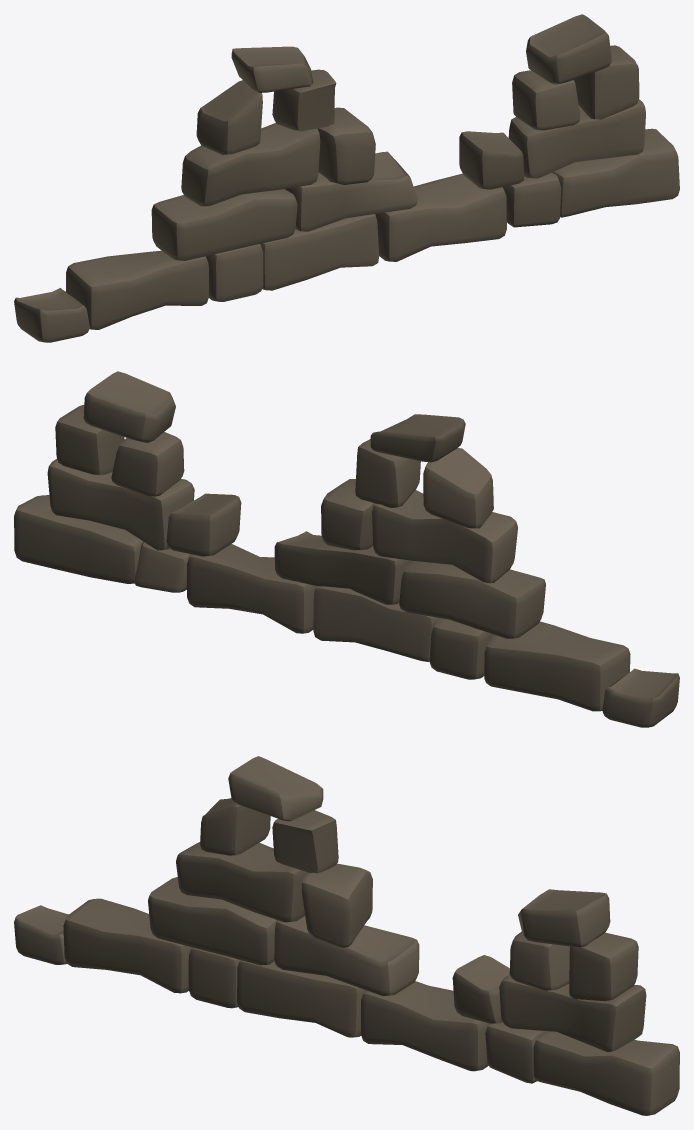
File: Destroyed Wall 3.fbx
3 views of the same model, one above another, from view 1: azimuth 30°, elevation 25°; view 2: azimuth 150°, elevation 25°; view 3: azimuth 330°, elevation 25° (orthographic). The views are drawn at different scales.
Parts seen in each view (by area): view 1: polySurface1556; view 2: polySurface1556; view 3: polySurface1556.
Part boxes in pixels (x1,y1,x2,y2): polySurface1556: (14,14,679,342); polySurface1556: (14,371,679,727); polySurface1556: (14,756,679,1115).
Size of the model in its own units: 27.76 by 9.67 by 3.16.
